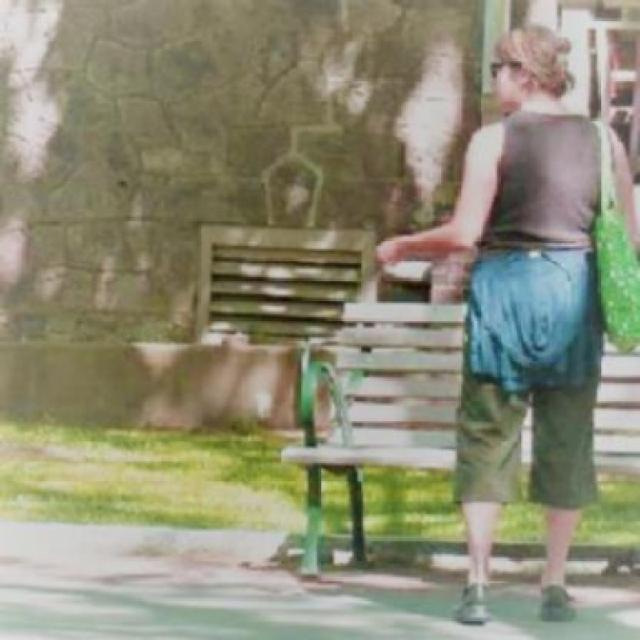Person: (367, 19, 638, 632)
